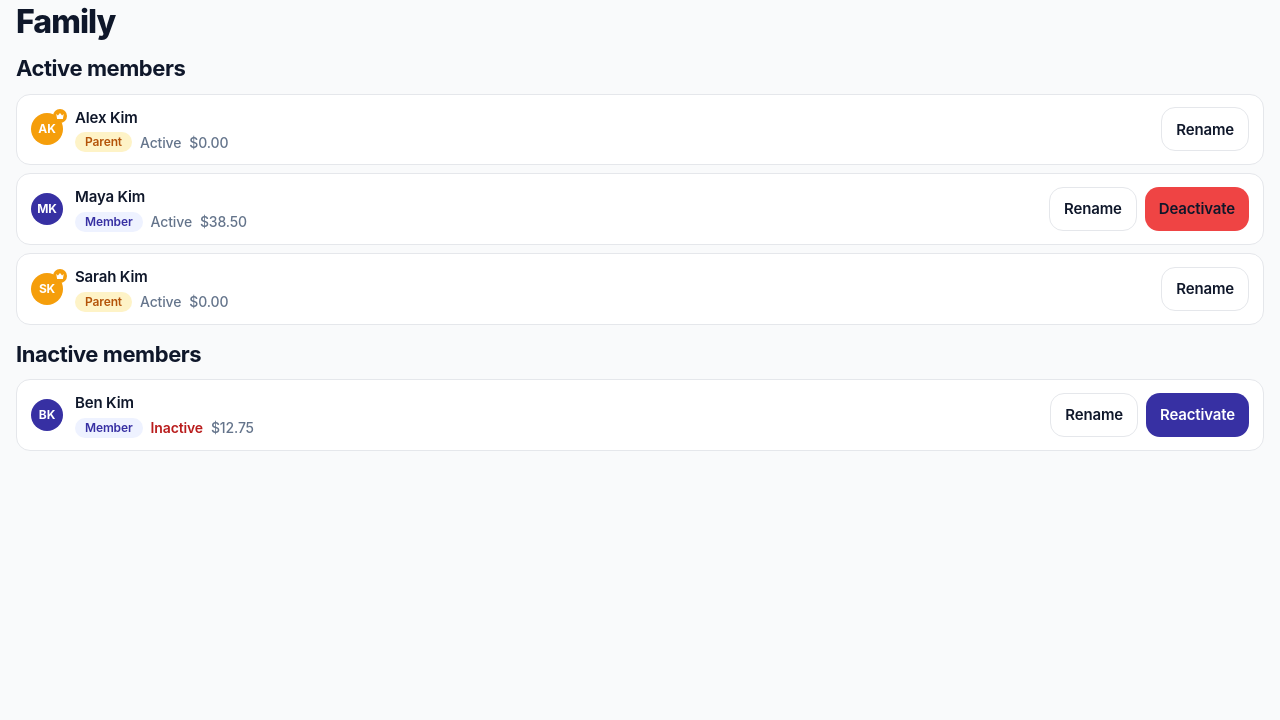
Scenario: FamilyManagementScreen — Deactivate flow (confirm BottomSheet) › clicking "Deactivate {name}" opens a confirm BottomSheet (role=dialog) NAMING the target member (a11y)
Click the button "Deactivate" at (1197, 209), box [1145,187,1249,231]
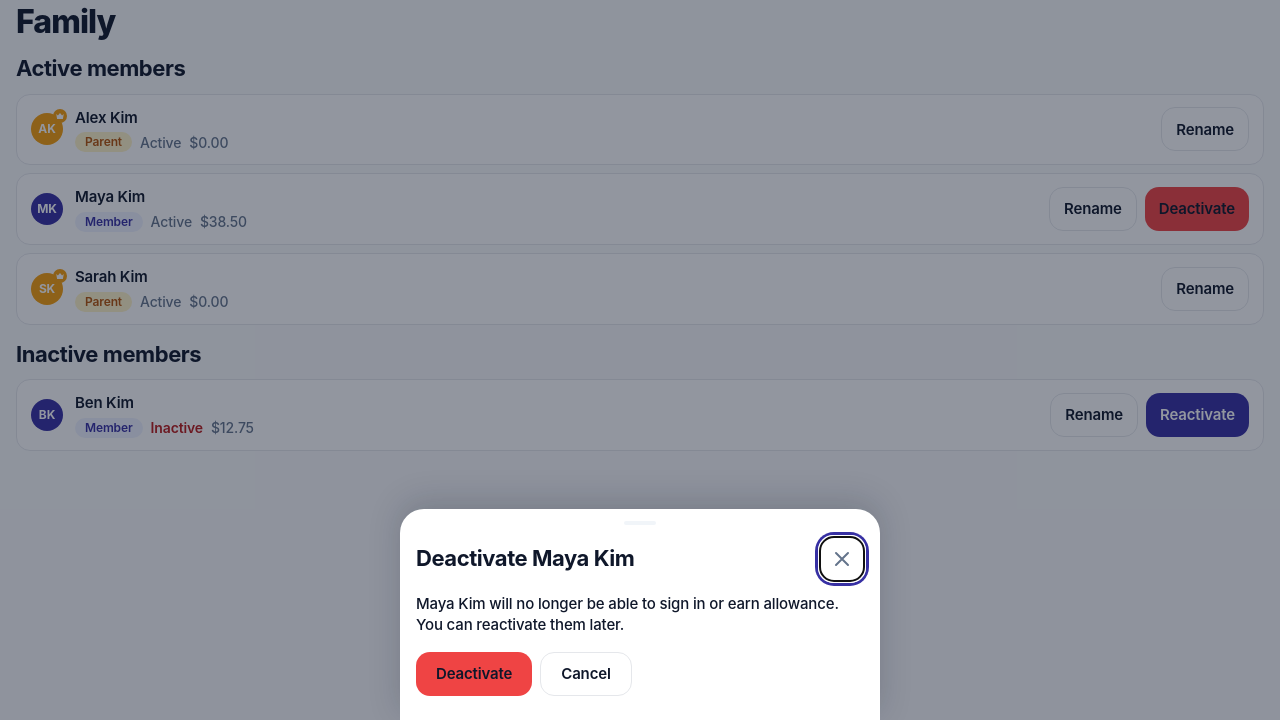
Result: the dialog is shown at [400,508,880,719]
